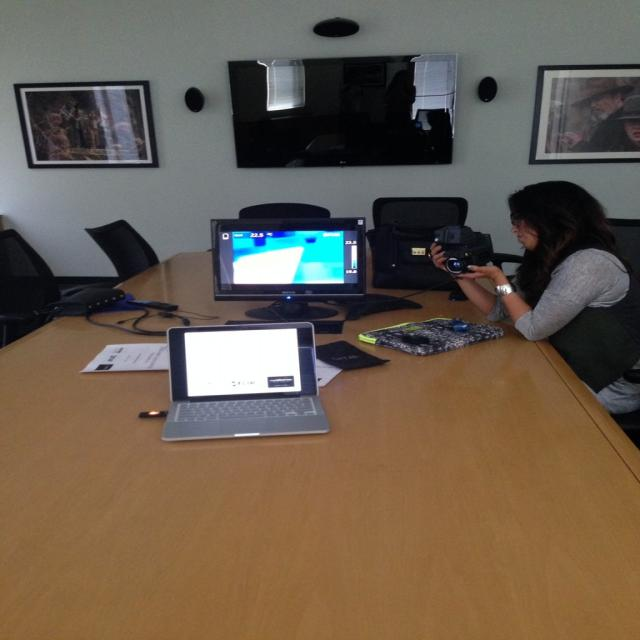chair: (0, 230, 125, 348), (368, 197, 470, 289), (84, 218, 161, 284), (236, 202, 332, 219)
desk: (0, 252, 639, 640)
laptop: (162, 322, 328, 443)
person: (438, 180, 640, 416)
tv: (211, 216, 367, 301)
